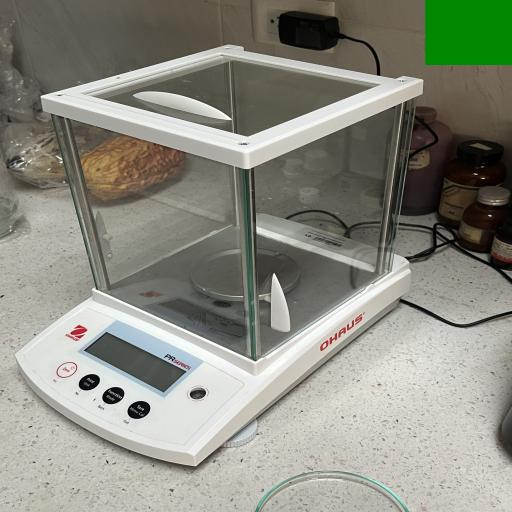Balanza_Analitica_Ohaus: (8, 34, 440, 477)
